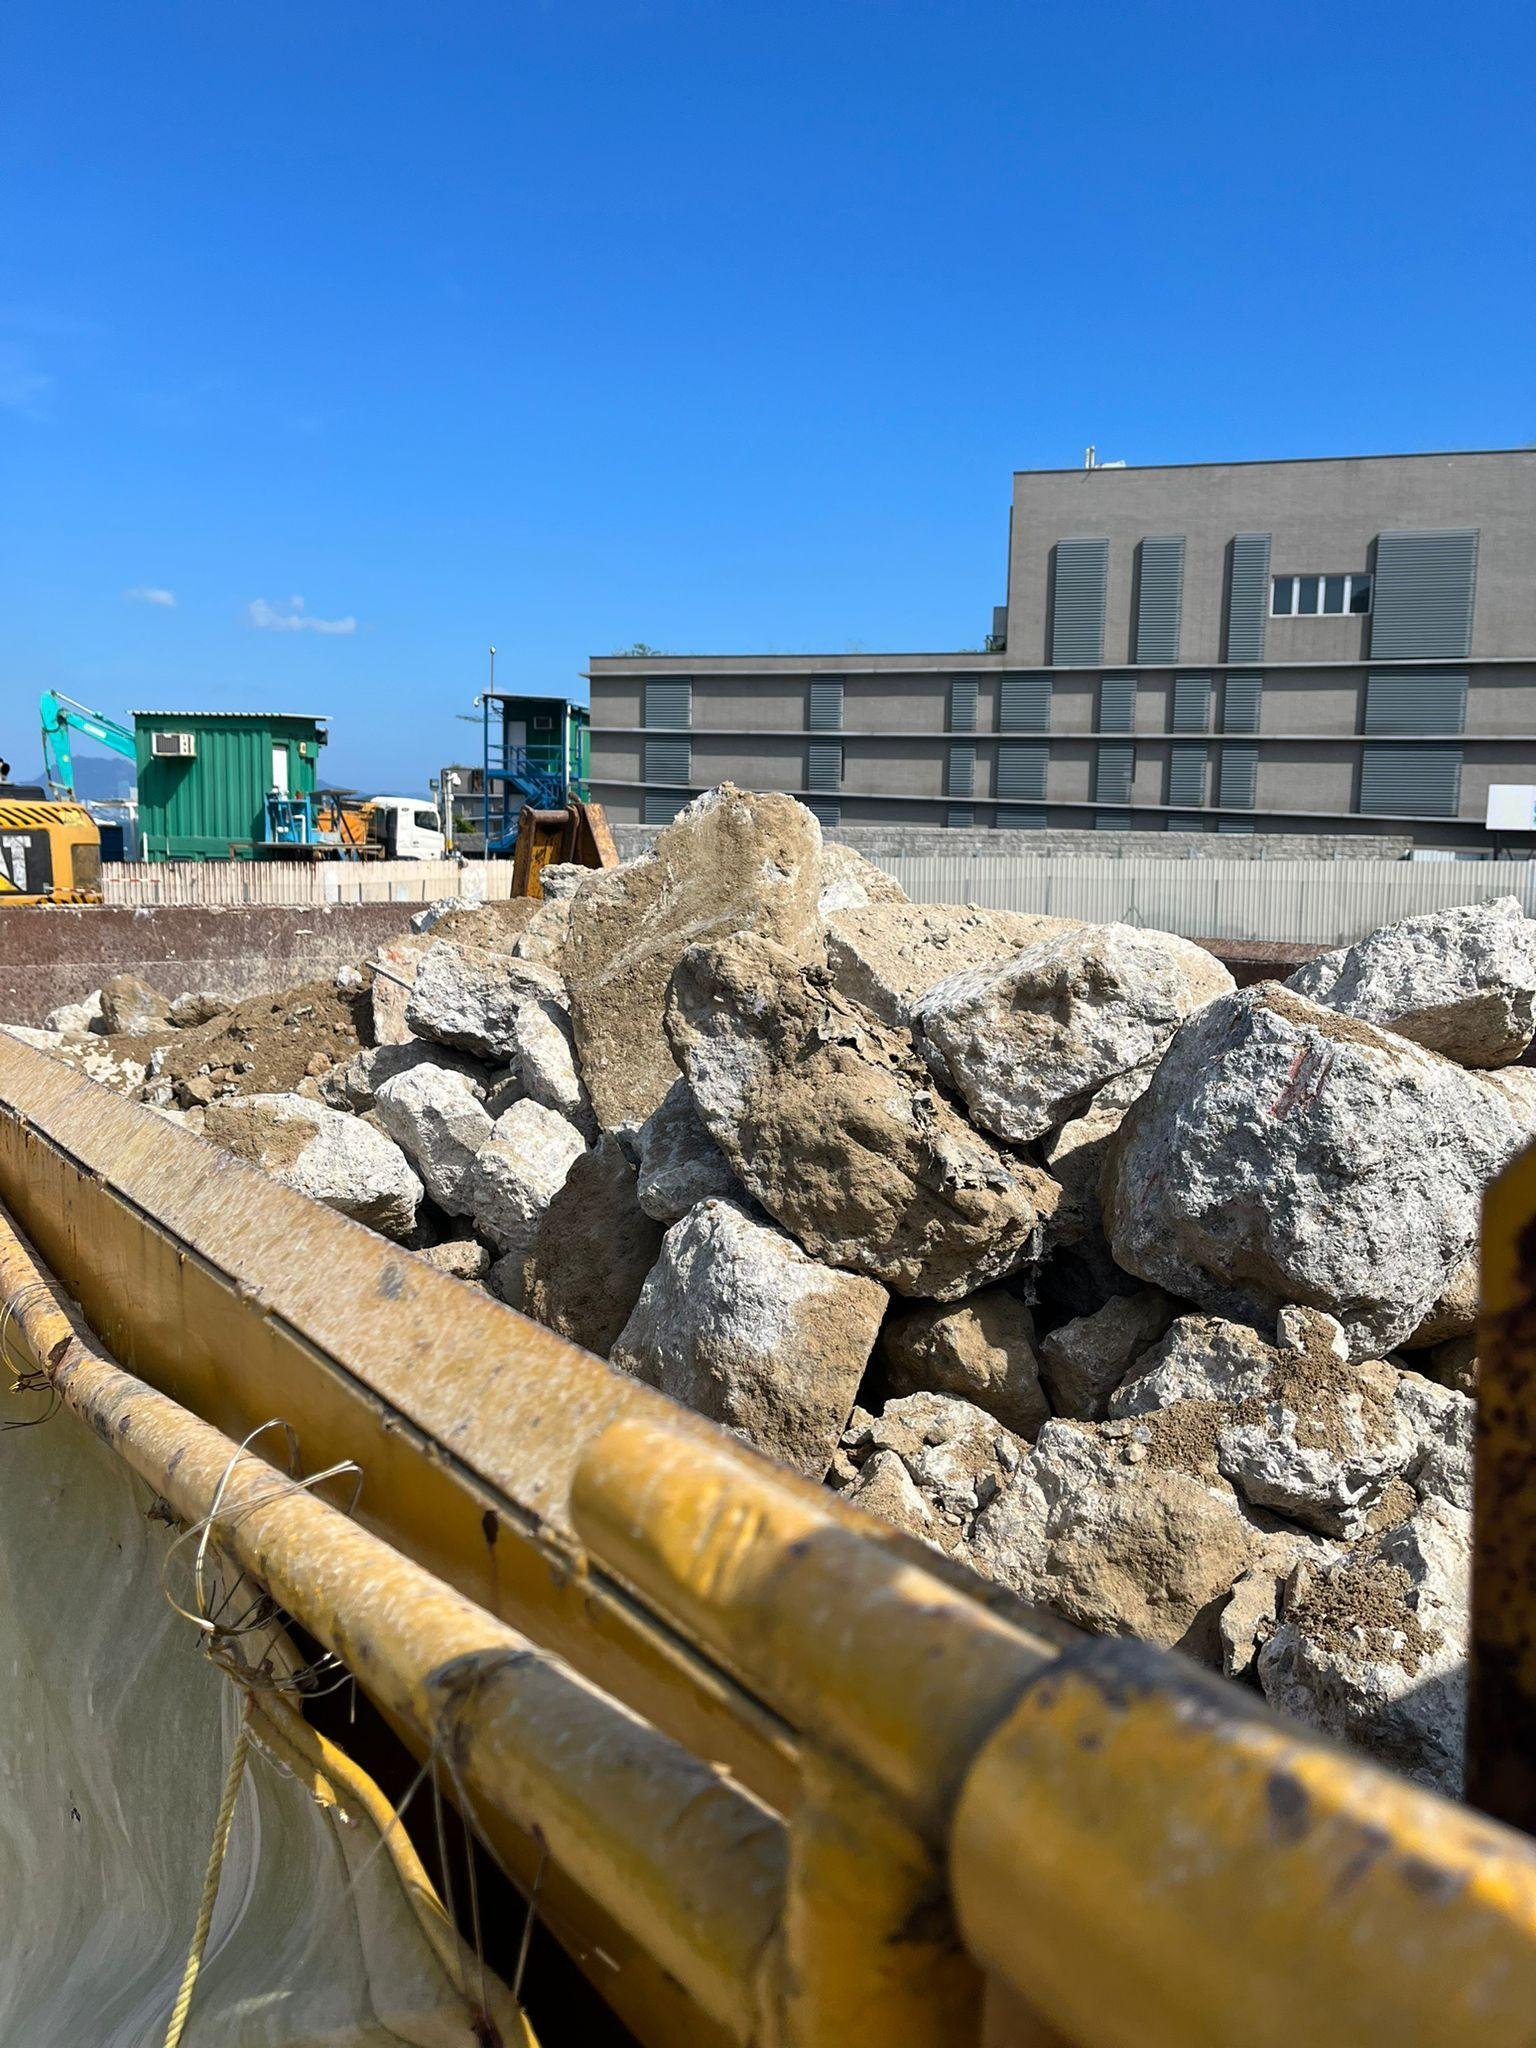dry: (60, 807, 1523, 1787)
